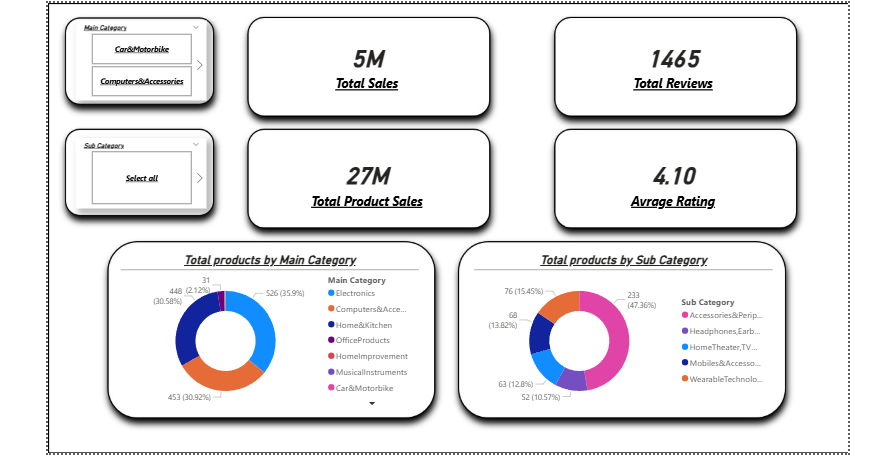

The dashboard page shown, as its layout file describes it:
{"tool":"powerbi","page":{"name":"Categories Analysis ","canvas":[1280,720],"ordinal":2},"visuals":[{"type":"image","box":[0,0,1280.3,720.4],"z":0},{"type":"slicer","fields":{"Values":["amazon.Main Category"]},"box":[43.9,28.8,209.9,127.6],"z":1000},{"type":"slicer","fields":{"Values":["amazon.Sub Category"]},"box":[43.9,215.4,209.9,112.5],"z":2000},{"type":"donutChart","fields":{"Category":["amazon.Main Category"],"Y":["amazon.Total products"]},"box":[115.3,399.3,477.5,252.5],"z":3000},{"type":"donutChart","fields":{"Y":["amazon.Total products"],"Series":["amazon.Sub Category"]},"box":[682,399.3,477.5,252.5],"z":4000},{"type":"card","fields":{"Values":["amazon.Total Sales"]},"box":[337.6,28.8,344.4,141.3],"z":5000},{"type":"card","fields":{"Values":["amazon.Total Reviews"]},"box":[827.4,28.8,344.4,141.3],"z":6000},{"type":"card","fields":{"Values":["amazon.Total Product Sales"]},"box":[337.6,215.4,344.4,141.3],"z":7000},{"type":"card","fields":{"Values":["amazon.Avrage Rating"]},"box":[827.4,215.4,344.4,141.3],"z":8000}]}

Visuals, with their boxes on the page's 1280x720 design canvas (x1, y1, x2, y2). These are canvas units, not pixel positions in the 882x464 screenshot, which may show the page scaled, cropped or inside an application window:
image: {"x1": 0, "y1": 0, "x2": 1280, "y2": 720}
slicer - amazon.Main Category: {"x1": 44, "y1": 29, "x2": 254, "y2": 156}
slicer - amazon.Sub Category: {"x1": 44, "y1": 215, "x2": 254, "y2": 328}
donutChart - amazon.Main Category x amazon.Total products: {"x1": 115, "y1": 399, "x2": 593, "y2": 652}
donutChart - amazon.Total products x amazon.Sub Category: {"x1": 682, "y1": 399, "x2": 1160, "y2": 652}
card - amazon.Total Sales: {"x1": 338, "y1": 29, "x2": 682, "y2": 170}
card - amazon.Total Reviews: {"x1": 827, "y1": 29, "x2": 1172, "y2": 170}
card - amazon.Total Product Sales: {"x1": 338, "y1": 215, "x2": 682, "y2": 357}
card - amazon.Avrage Rating: {"x1": 827, "y1": 215, "x2": 1172, "y2": 357}
